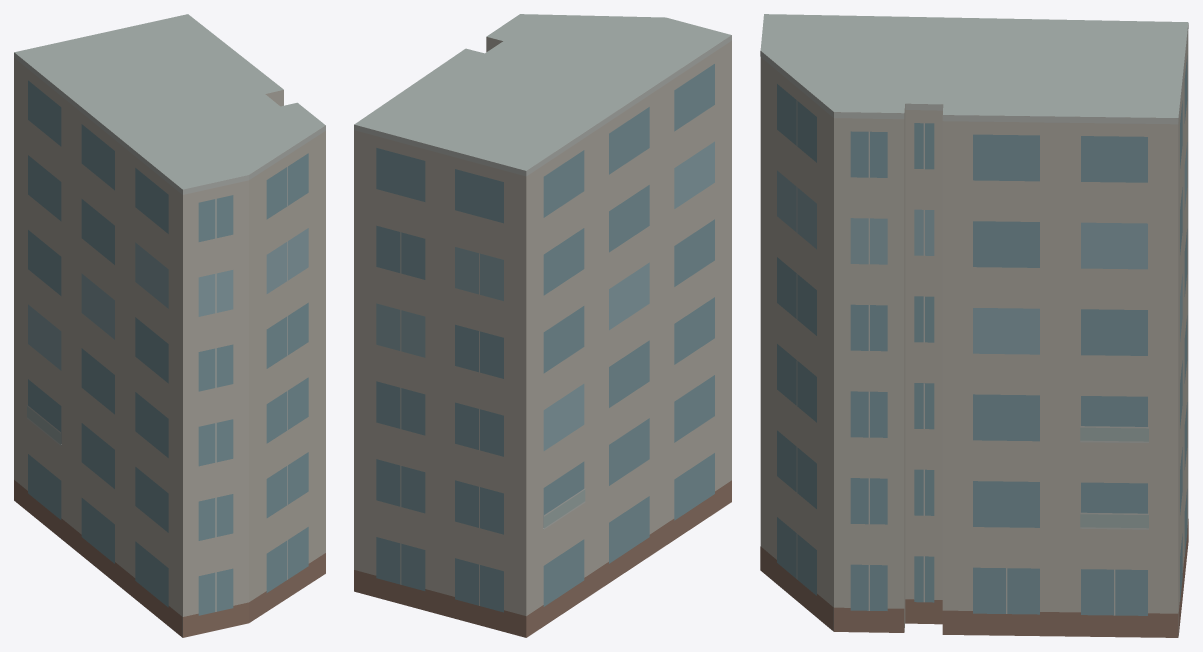
The model's file is survey-upis-32700166.glb.
3 views of the same model, side by side, from view 1: azimuth 30°, elevation 25°; view 2: azimuth 150°, elevation 25°; view 3: azimuth 270°, elevation 25° (orthographic). The views are drawn at different scales.
Parts seen in each view (by area): view 1: survey-upis-32700166.tmp; view 2: survey-upis-32700166.tmp; view 3: survey-upis-32700166.tmp.
Boxes of the visible parts, x1,y1,x2,y2 form: survey-upis-32700166.tmp: [14, 14, 325, 637]; survey-upis-32700166.tmp: [354, 14, 731, 637]; survey-upis-32700166.tmp: [760, 14, 1188, 637].
Size of the model in its own units: 8.84 by 20.55 by 15.34.
